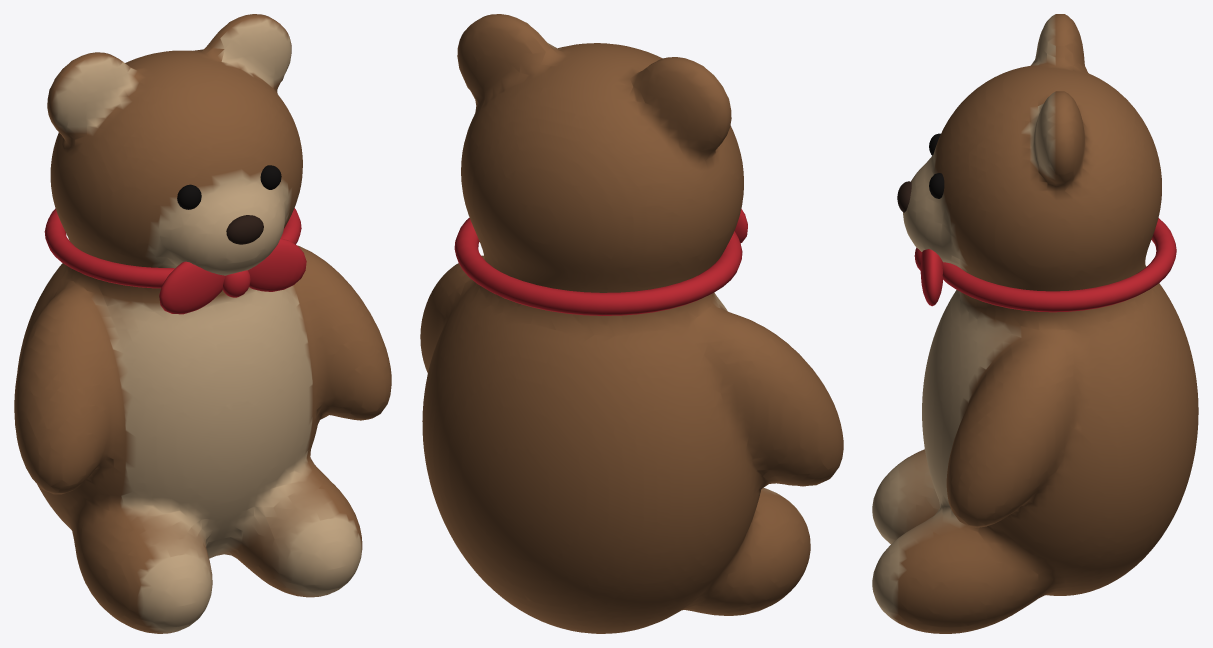
The model's file is bear_blender.glb.
3 views of the same model, side by side, from view 1: azimuth 30°, elevation 25°; view 2: azimuth 150°, elevation 25°; view 3: azimuth 270°, elevation 25° (orthographic). The views are drawn at different scales.
Visible parts, largest first — view 1: bear_blender; view 2: bear_blender; view 3: bear_blender.
Boxes of the visible parts, bbox=[...] form: bear_blender: bbox=[14, 14, 391, 633]; bear_blender: bbox=[420, 14, 843, 633]; bear_blender: bbox=[872, 14, 1198, 633].
Bounding box in the file's own units: 0.2889 × 0.4048 × 0.224.
